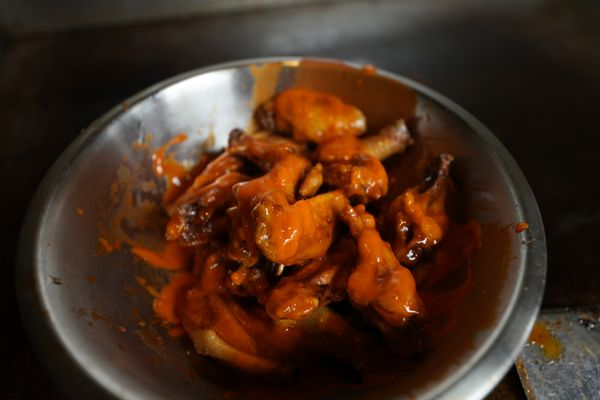sushi: (17, 55, 547, 394)
